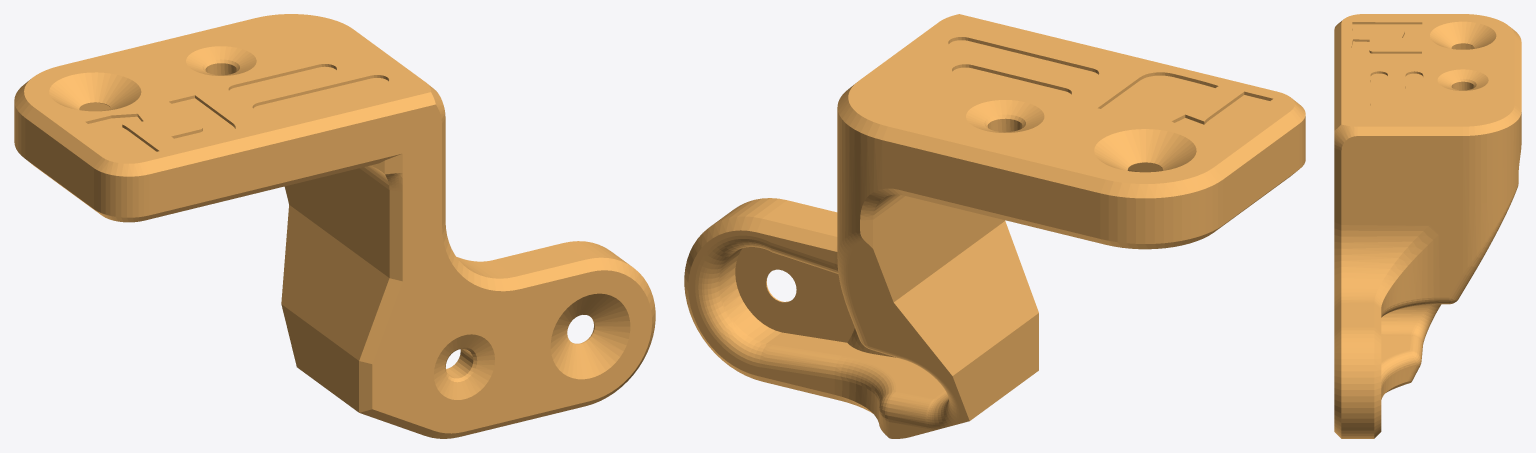
Rendered from hip_l1.glb.
3 renders of one model, left to right at view 1: azimuth 30°, elevation 25°; view 2: azimuth 150°, elevation 25°; view 3: azimuth 270°, elevation 25°, orthographic. The views are drawn at different scales.
Parts seen in each view (by area): view 1: geometry_0; view 2: geometry_0; view 3: geometry_0.
Part boxes in pixels (x1,y1,x2,y2): geometry_0: (14, 14, 655, 438); geometry_0: (684, 14, 1305, 438); geometry_0: (1334, 14, 1521, 438).
Size of the model in its own units: 0.0495 by 0.0305 by 0.0203.
